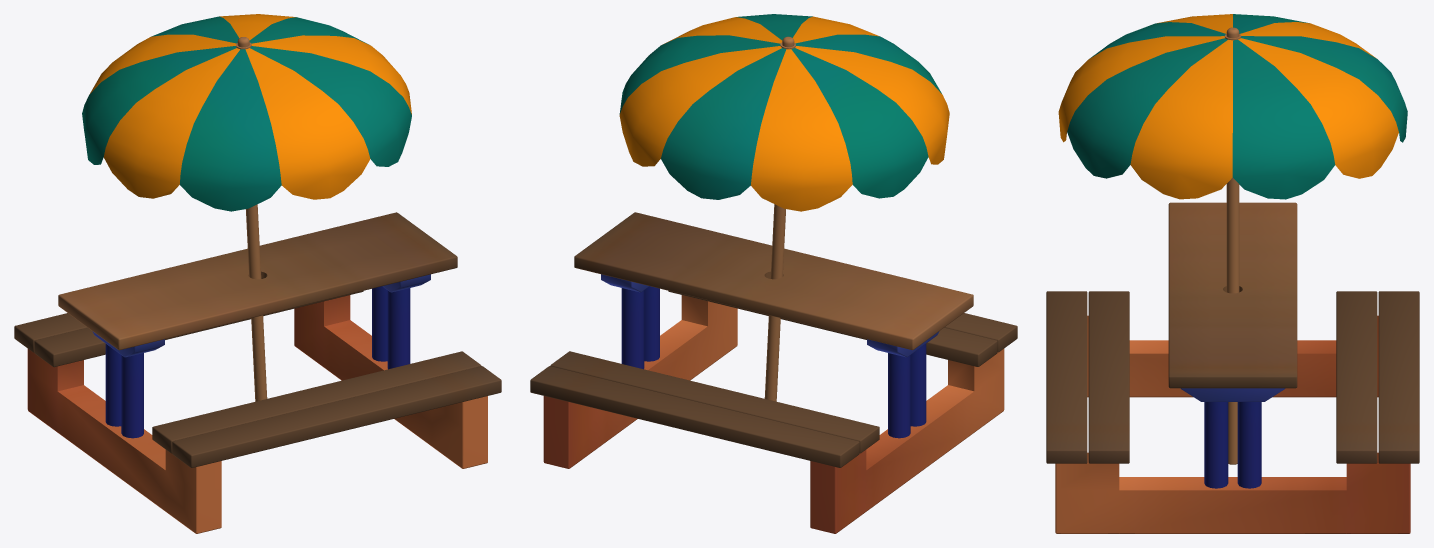
Rendered from picnic-table-01.glb.
3 views of the same model, side by side, from view 1: azimuth 30°, elevation 25°; view 2: azimuth 150°, elevation 25°; view 3: azimuth 270°, elevation 25° (orthographic). The views are drawn at different scales.
Parts seen in each view (by area): view 1: Picnic Table 02; view 2: Picnic Table 02; view 3: Picnic Table 02.
Boxes of the visible parts, x1,y1,x2,y2 form: Picnic Table 02: [14, 14, 501, 533]; Picnic Table 02: [530, 14, 1017, 533]; Picnic Table 02: [1046, 14, 1419, 533].
Bounding box in the file's own units: 1.96 × 2.23 × 1.77.
1 material, 1 textured.
